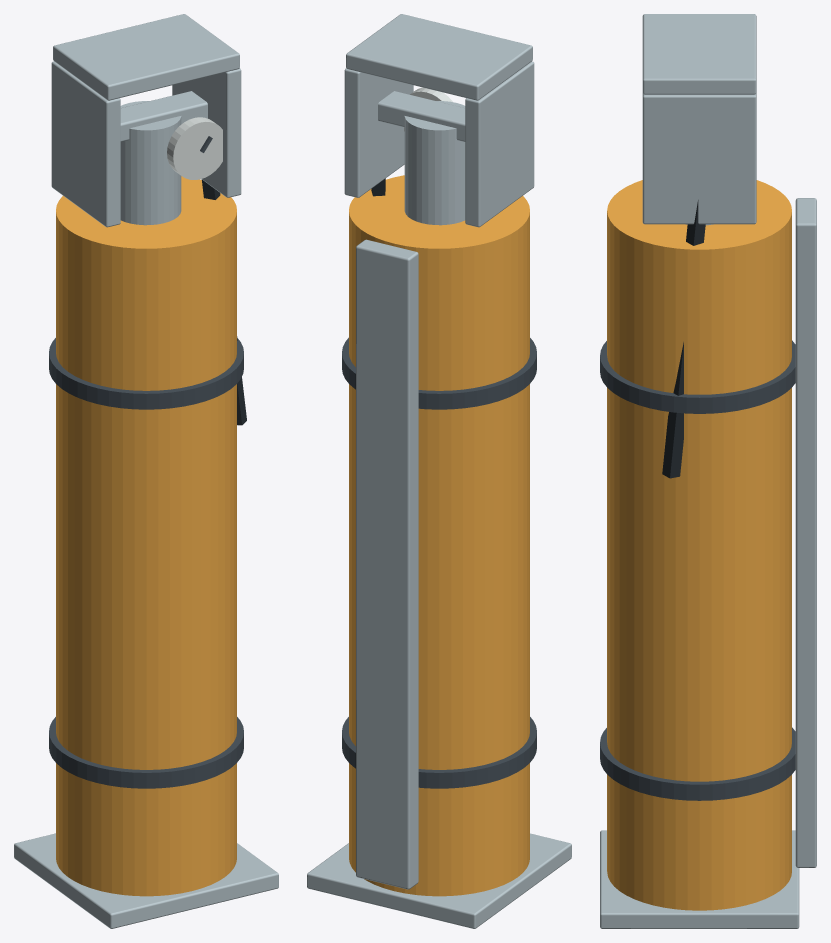
Rendered from data-centre-infiltration-kit-data-centre-infiltration--c63949d2__29261.glb.
3 views of the same model, side by side, from view 1: azimuth 30°, elevation 25°; view 2: azimuth 150°, elevation 25°; view 3: azimuth 270°, elevation 25° (orthographic). The views are drawn at different scales.
Visible parts, largest first — view 1: data-centre-infiltration-kit-fire-cylinder; view 2: data-centre-infiltration-kit-fire-cylinder; view 3: data-centre-infiltration-kit-fire-cylinder.
Boxes of the visible parts, x1=… form: data-centre-infiltration-kit-fire-cylinder: x1=14, y1=14, x2=278, y2=928; data-centre-infiltration-kit-fire-cylinder: x1=307, y1=14, x2=571, y2=928; data-centre-infiltration-kit-fire-cylinder: x1=600, y1=14, x2=816, y2=928.
Bounding box in the file's own units: 0.2826 × 1.3 × 0.305.
